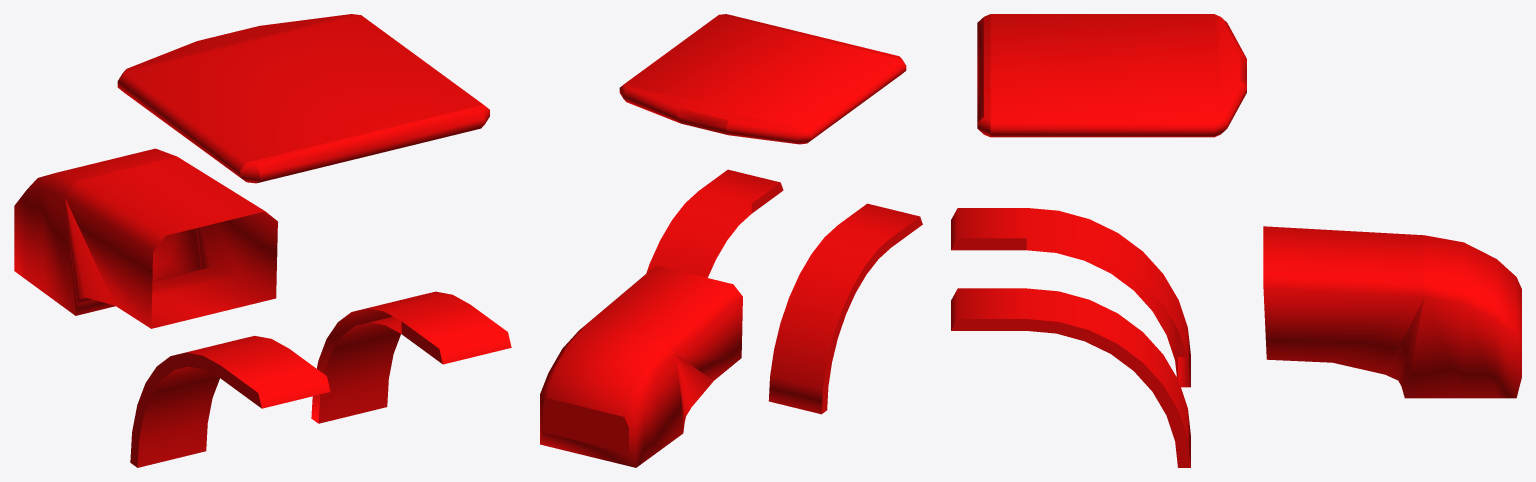
File: chassi_1.obj
3 views of the same model, side by side, from view 1: azimuth 30°, elevation 25°; view 2: azimuth 150°, elevation 25°; view 3: azimuth 270°, elevation 25° (orthographic). The views are drawn at different scales.
Bounding box in the file's own units: 4 × 5.8 × 8.68.
